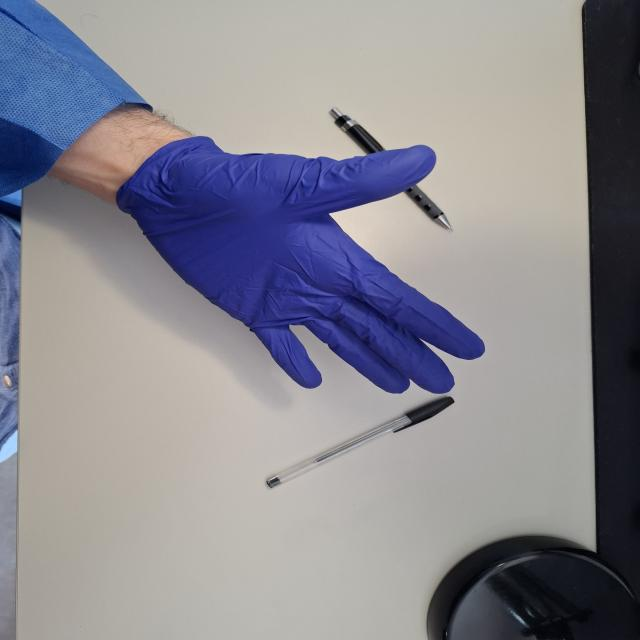glove_on: (115, 136, 491, 398)
